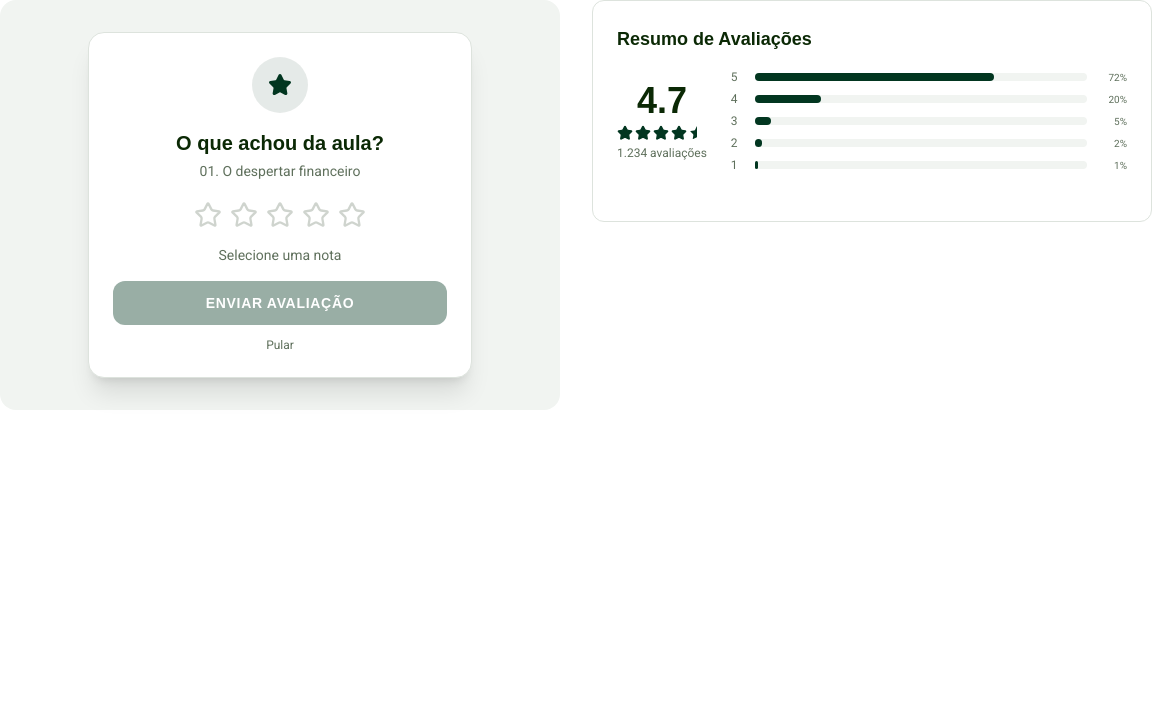
PlataformaRating — fluxo de seleção › inicia com placeholder e habilita conteúdo após escolher estrela
Later steps or results of the test are not shown.
Expected: the button "Enviar Avaliação" is disabled, [113,281,447,325]
What coordinates should you click on to do the following:
click the 4th button
I would click on:
 (316, 215)
Its box is [302,201,330,229].
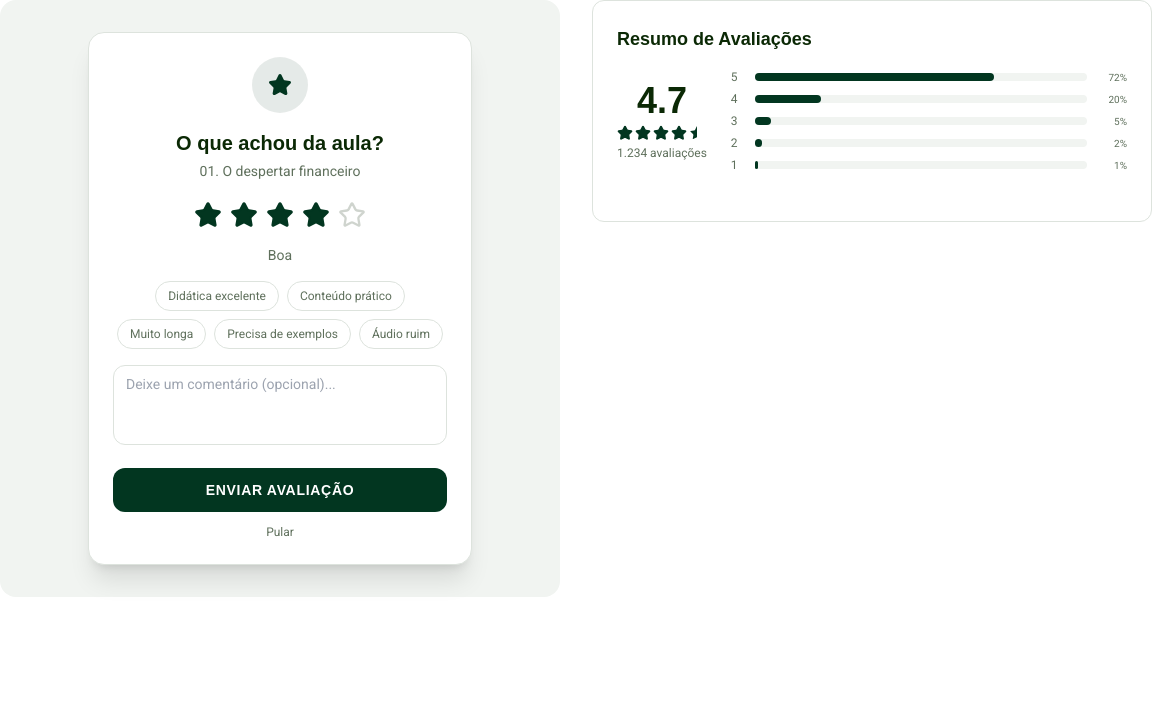
Expected: the text "Boa" is shown, [268,247,292,263]
Expected: the text box with placeholder "Deixe um comentário (opcional)..." is shown, [113,365,447,445]
Expected: the button "Enviar Avaliação" is enabled, [113,468,447,512]
# Toggle de 2 tags
What coordinates should you click on to do the following:
click the button "Didática excelente"
I would click on:
 (217, 296)
Its box is [155,281,279,311].
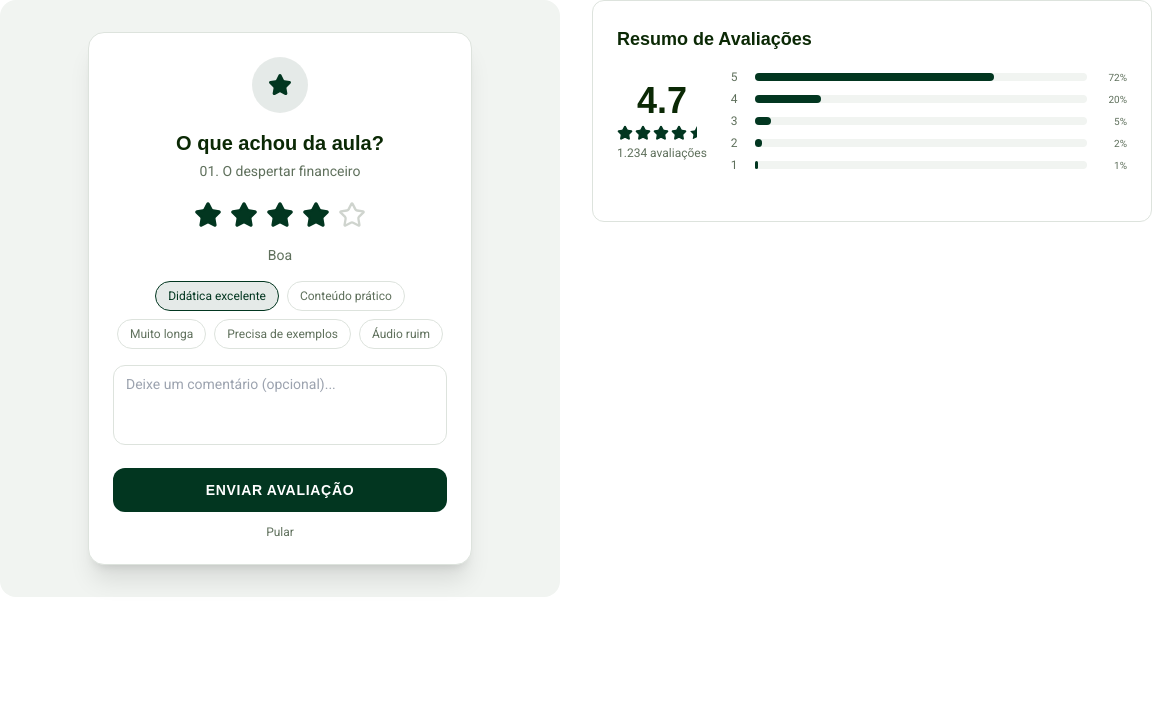
What coordinates should you click on to do the following:
click the button "Conteúdo prático"
I would click on:
 (346, 296)
Its box is [287,281,405,311].
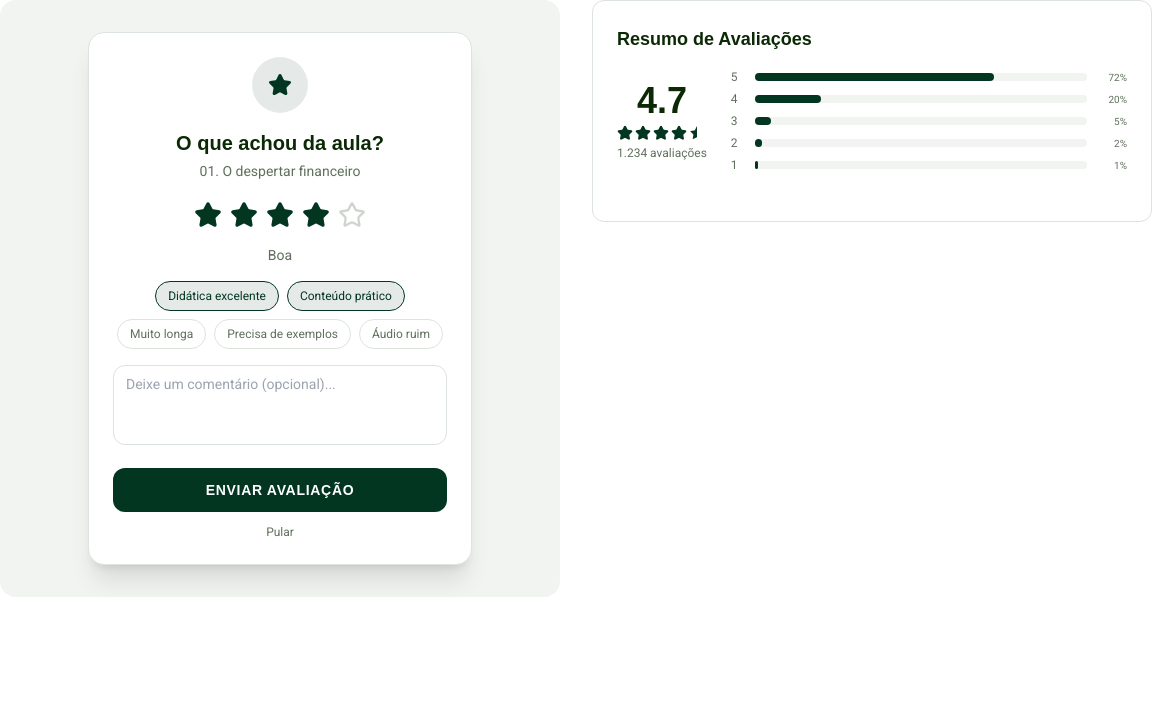
Expected: the button "Didática excelente" has class "border-accent", [155,281,279,311]
Expected: the button "Conteúdo prático" has class "border-accent", [287,281,405,311]
